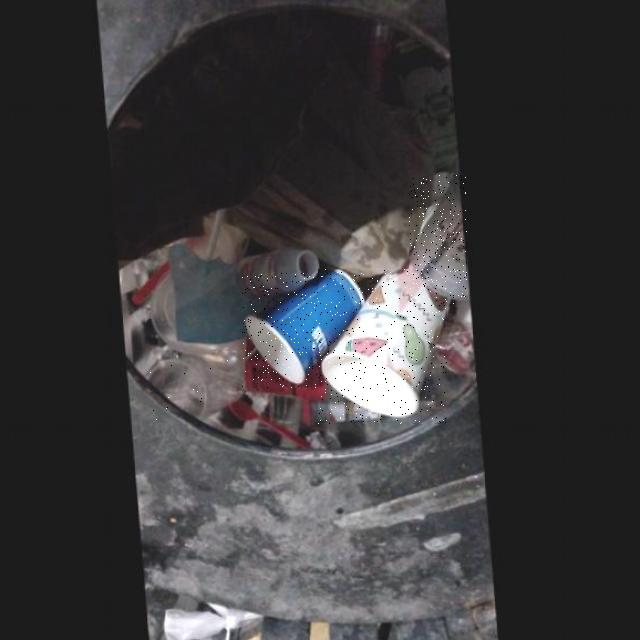paper: (319, 269, 447, 424), (243, 274, 363, 388)
plastic: (410, 175, 467, 307), (145, 359, 245, 423)
